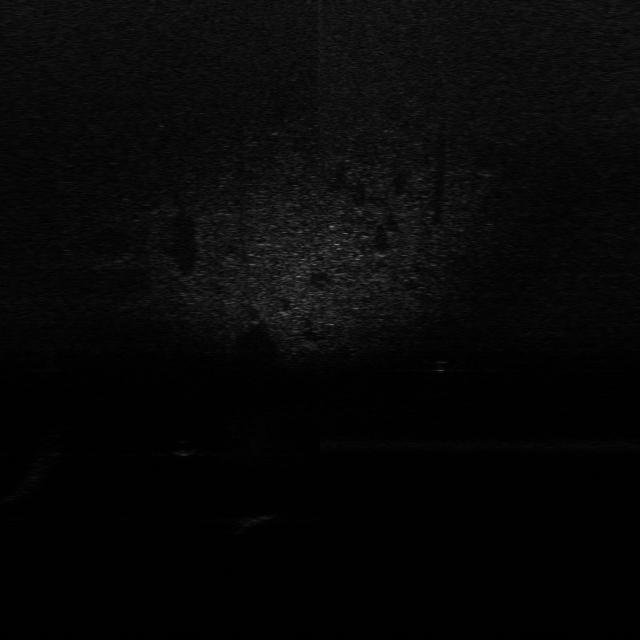ball: (171, 438, 198, 456)
square cage: (233, 509, 283, 527)
tyre: (429, 347, 458, 374)
